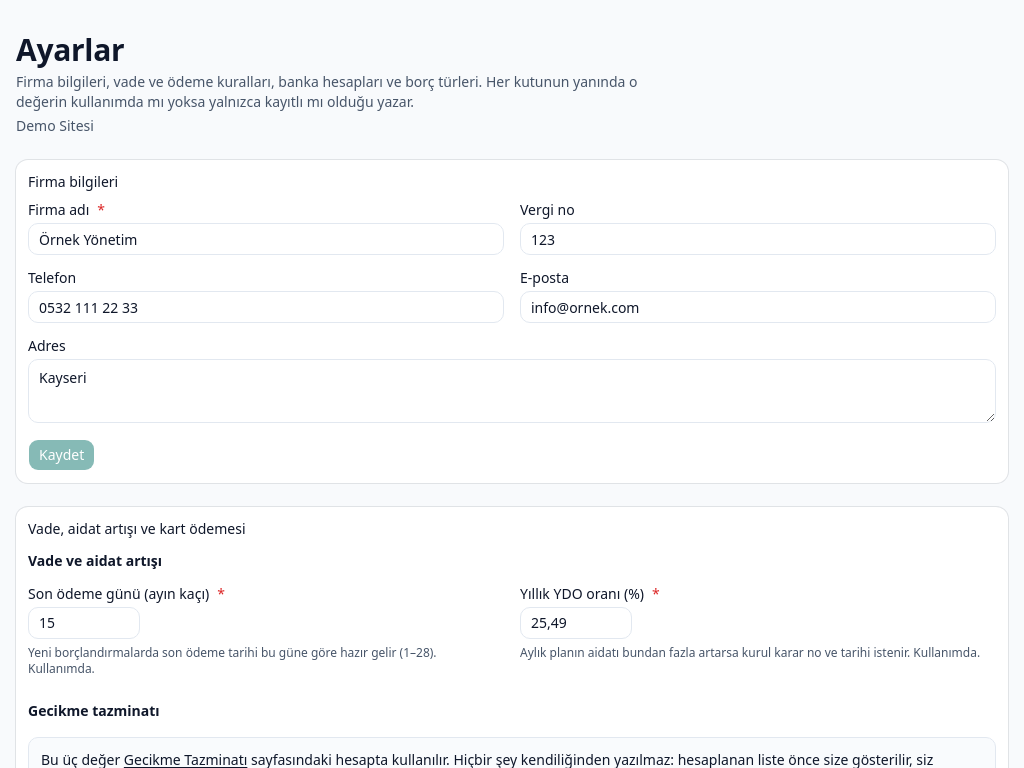
Ayarlar › reloads the settings after the rules are saved, and the rules form is clean again
Replace the text in the field labelled "Yıllık YDO oranı (%) *" with "12,5" at (576, 622), box top-left (520, 606), bottom-right (632, 638)
(page scrolled)
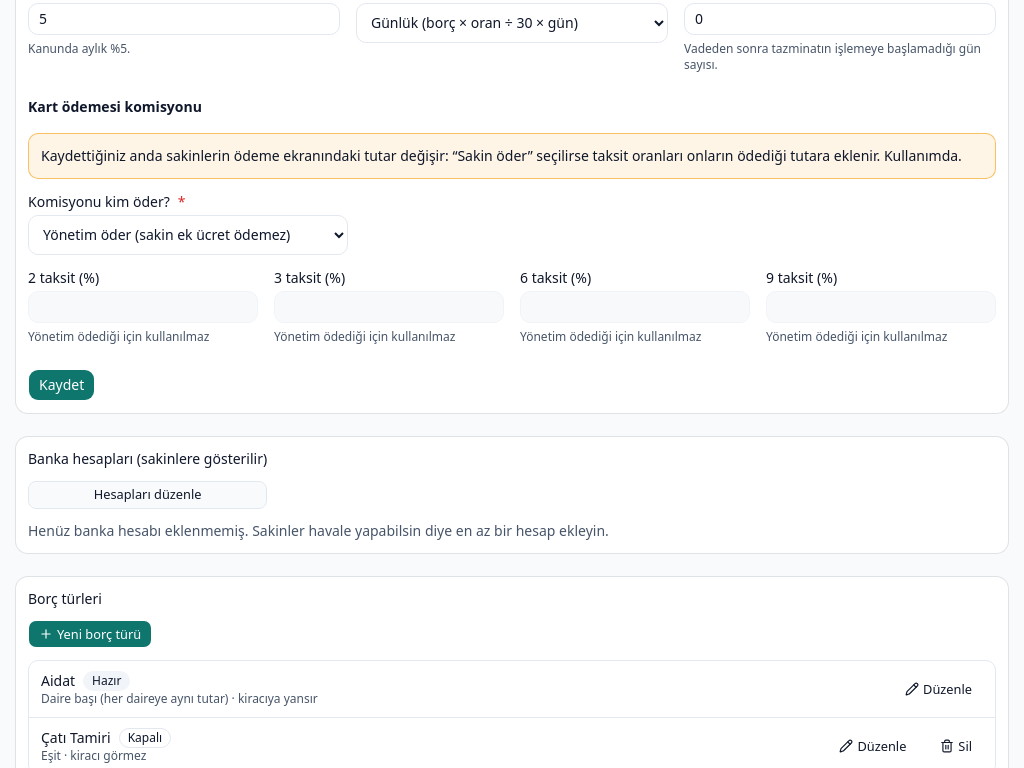
Check: the button "Kaydet" is enabled
Click the button "Kaydet" at (62, 384), box top-left (28, 368), bottom-right (95, 400)
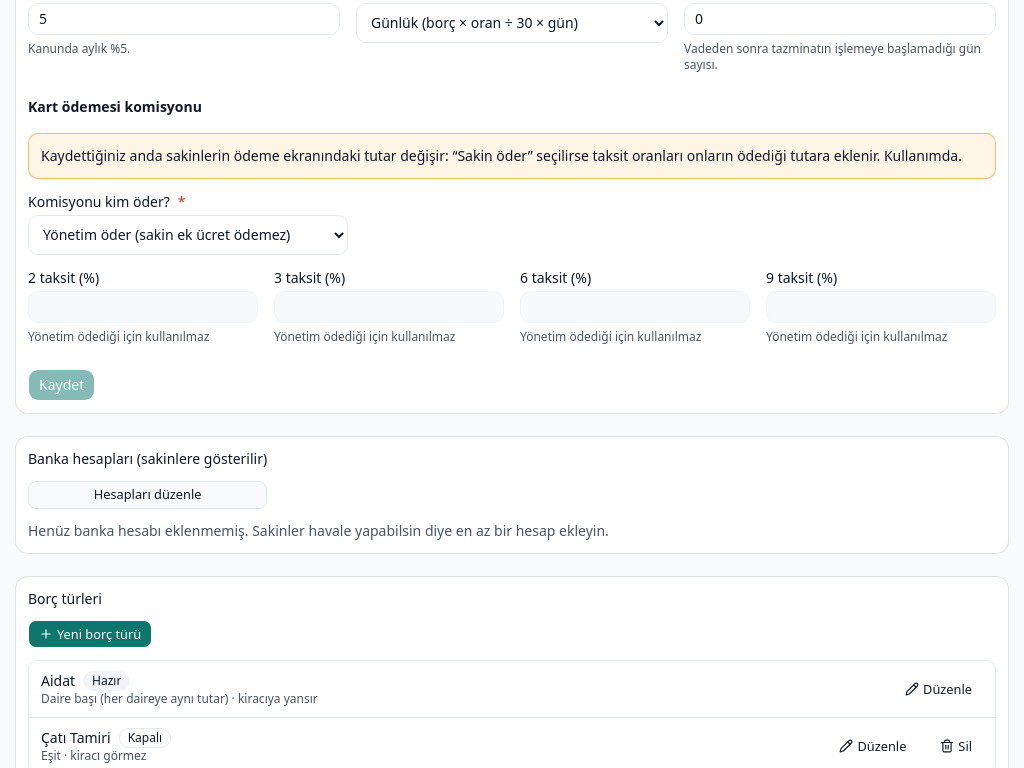
Check: the button "Kaydet" is disabled, box top-left (28, 368), bottom-right (95, 400)
